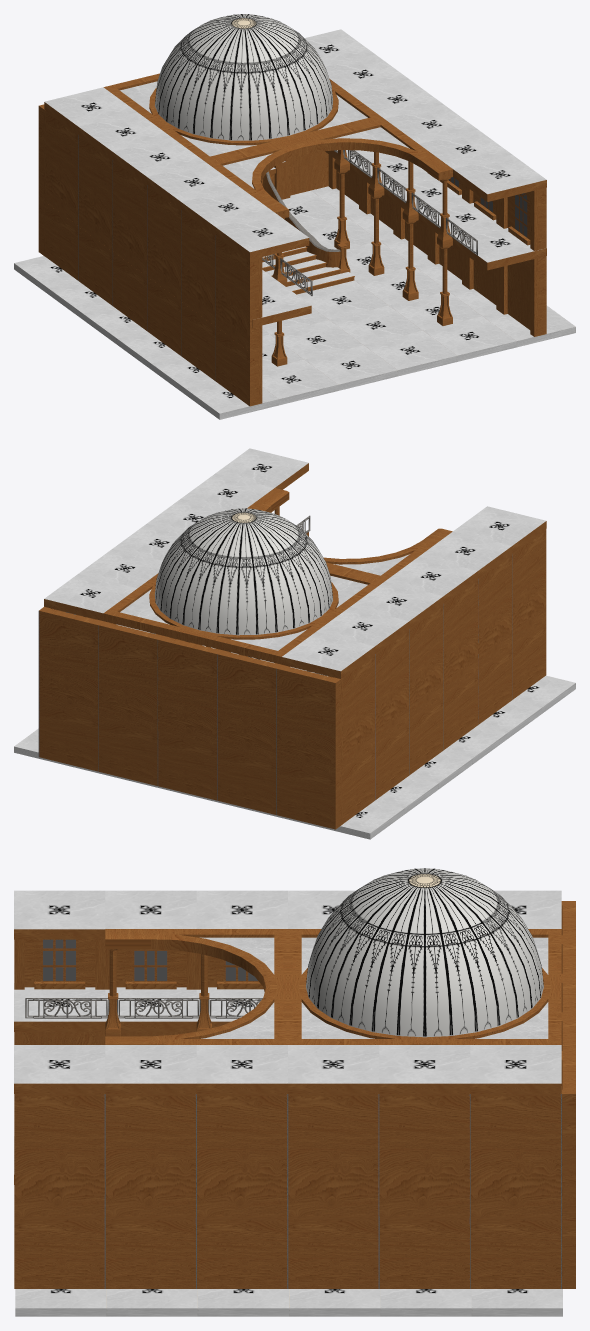
Rendered from GrandStaircase.fbx.
3 renders of one model, top to bottom at view 1: azimuth 30°, elevation 25°; view 2: azimuth 150°, elevation 25°; view 3: azimuth 270°, elevation 25°, orthographic. The views are drawn at different scales.
Visible parts, largest first — view 1: Sphere.002_Material.001_0.001, Sphere.001_Material.001_0.001, Cube.124_Material.001_0.001, Cube.120_Material.001_0.001, Cube.123_Material.001_0.001, Cube.121_Material.001_0.001, Cube.122_Material.001_0.001, Cube.002_Material.001_0.001, Cube.136_Material.001_0.001, Cube.083_Material.001_0.001, Cube.079_Material.001_0.001, Cube.130_Material.001_0.001 (+61 smaller); view 2: Sphere.002_Material.001_0.001, Cube.056_Material.001_0.001, Cube.052_Material.001_0.001, Cube.001_Material.001_0.001, Cube.003_Material.001_0.001, Cube.054_Material.001_0.001, Cube.057_Material.001_0.001, Cube.053_Material.001_0.001, Cube.032_Material.001_0.001, Cube.107_Material.001_0.001, Cube.055_Material.001_0.001, Cube.122_Material.001_0.001 (+31 smaller); view 3: Sphere.002_Material.001_0.001, Cube.131_Material.001_0.001, Cube.132_Material.001_0.001, Cube.136_Material.001_0.001, Cube.133_Material.001_0.001, Cube.134_Material.001_0.001, Cube.135_Material.001_0.001, Sphere.001_Material.001_0.001, Cube.137_Material.001_0.001, Cube.138_Material.001_0.001, Cube.139_Material.001_0.001, Cube.140_Material.001_0.001 (+34 smaller).
Part boxes in pixels (x1,y1,x2,y2): Sphere.002_Material.001_0.001: (103,14,383,162); Sphere.001_Material.001_0.001: (206,119,452,218); Cube.124_Material.001_0.001: (215,235,262,351); Cube.120_Material.001_0.001: (78,134,112,250); Cube.123_Material.001_0.001: (181,210,215,326); Cube.121_Material.001_0.001: (112,160,146,276); Cube.122_Material.001_0.001: (147,185,181,301); Cube.002_Material.001_0.001: (46,111,78,225); Cube.136_Material.001_0.001: (500,187,546,282); Cube.083_Material.001_0.001: (215,213,309,259); Cube.079_Material.001_0.001: (453,155,546,201); Cube.130_Material.001_0.001: (215,327,262,406); Sphere.002_Material.001_0.001: (103,508,383,664); Cube.056_Material.001_0.001: (276,665,342,774); Cube.052_Material.001_0.001: (38,606,103,716); Cube.001_Material.001_0.001: (157,635,221,745); Cube.003_Material.001_0.001: (98,621,162,731); Cube.054_Material.001_0.001: (217,650,281,760); Cube.057_Material.001_0.001: (276,760,342,829); Cube.053_Material.001_0.001: (38,702,98,771); Cube.032_Material.001_0.001: (98,717,157,785); Cube.107_Material.001_0.001: (157,731,216,800); Cube.055_Material.001_0.001: (217,746,276,814); Cube.122_Material.001_0.001: (443,579,477,695); Sphere.002_Material.001_0.001: (288,868,561,1044); Cube.131_Material.001_0.001: (470,1086,561,1216); Cube.132_Material.001_0.001: (379,1094,470,1216); Cube.136_Material.001_0.001: (14,1094,105,1216); Cube.133_Material.001_0.001: (288,1094,379,1216); Cube.134_Material.001_0.001: (197,1094,288,1216); Cube.135_Material.001_0.001: (105,1094,196,1216); Sphere.001_Material.001_0.001: (105,929,287,1044); Cube.137_Material.001_0.001: (470,1216,561,1288); Cube.138_Material.001_0.001: (379,1216,470,1288); Cube.139_Material.001_0.001: (288,1216,379,1288); Cube.140_Material.001_0.001: (197,1216,288,1288).
Size of the model in its own units: 1170 by 758 by 1200.
1 material, 1 textured.
